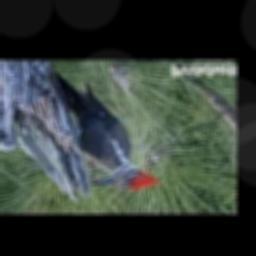Woodpecker: (50, 68, 159, 190)
